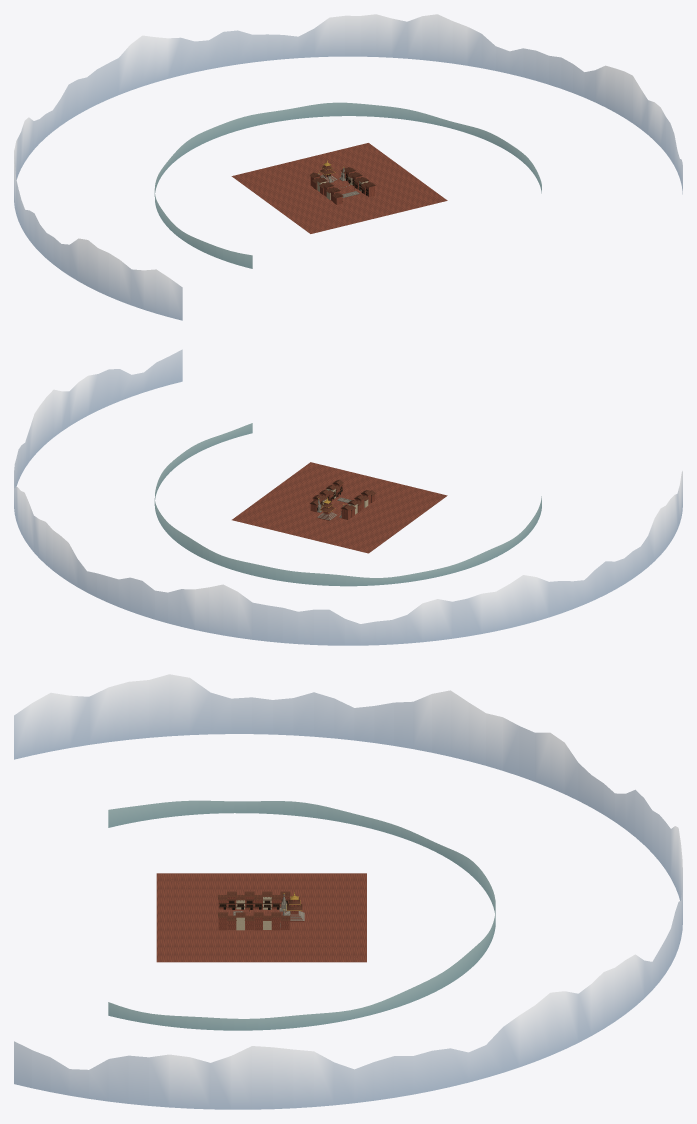
Rendered from heritage-square.glb.
3 renders of one model, top to bottom at view 1: azimuth 30°, elevation 25°; view 2: azimuth 150°, elevation 25°; view 3: azimuth 270°, elevation 25°, orthographic. The views are drawn at different scales.
Visible parts, largest first — view 1: _MeshInstance3D_12, _MeshInstance3D_5, _MeshInstance3D_11; view 2: _MeshInstance3D_12, _MeshInstance3D_5, _MeshInstance3D_11; view 3: _MeshInstance3D_12, _MeshInstance3D_5, _MeshInstance3D_11.
Boxes of the visible parts, x1=… form: _MeshInstance3D_12: x1=14, y1=14, x2=682, y2=320; _MeshInstance3D_5: x1=231, y1=143, x2=447, y2=233; _MeshInstance3D_11: x1=154, y1=102, x2=541, y2=268; _MeshInstance3D_12: x1=14, y1=349, x2=682, y2=645; _MeshInstance3D_5: x1=232, y1=462, x2=447, y2=553; _MeshInstance3D_11: x1=154, y1=423, x2=541, y2=586; _MeshInstance3D_12: x1=14, y1=674, x2=682, y2=1109; _MeshInstance3D_5: x1=156, y1=873, x2=366, y2=962; _MeshInstance3D_11: x1=108, y1=800, x2=495, y2=1030.
Bounding box in the file's own units: 380 × 32 × 286.
Materials: 25 (11 with a texture image).
